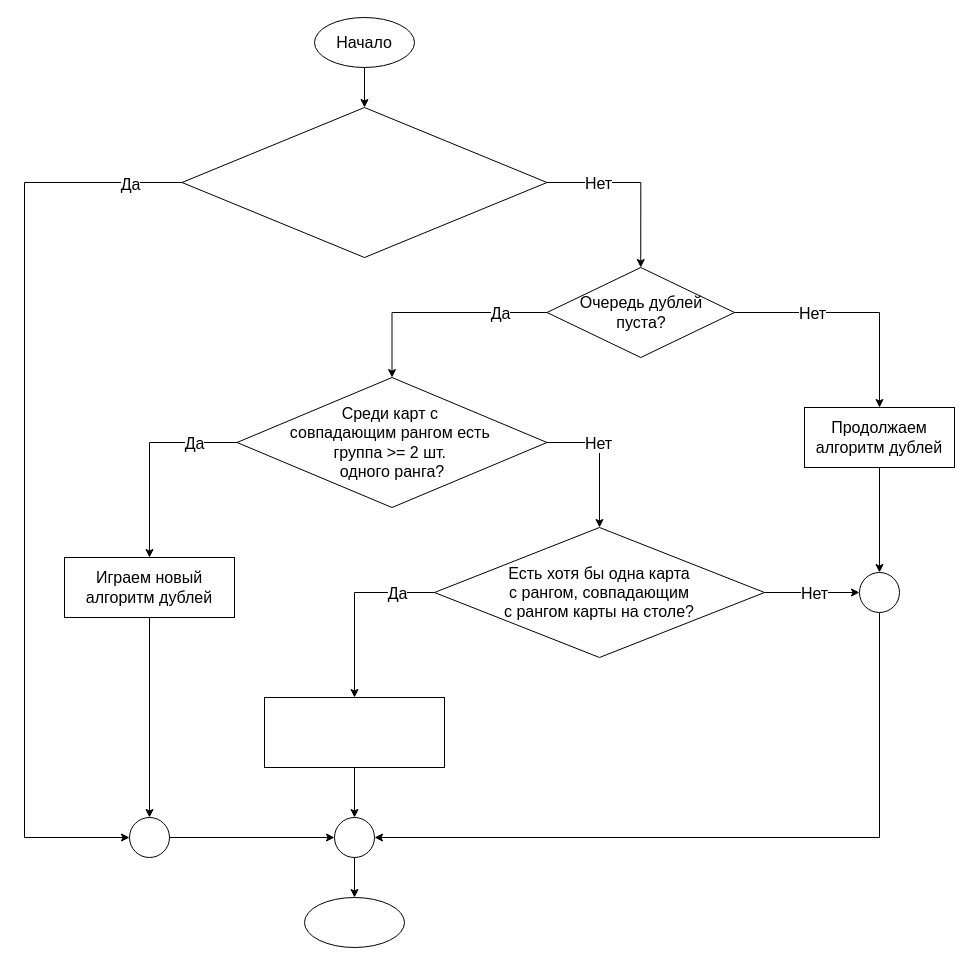
Some shapes in this 972 by 965 pixel diagram are drawn without their labels. The shapes that lost their labels are listed below. From the top down, each one's centre as x and y in pixels, then its label:
At point 364,182: "Количество карт на столе >= MIN(количество карт соперника; 6)?".
At point 354,732: "Подкидываем минимальную карту".
At point 354,922: "Конец".
